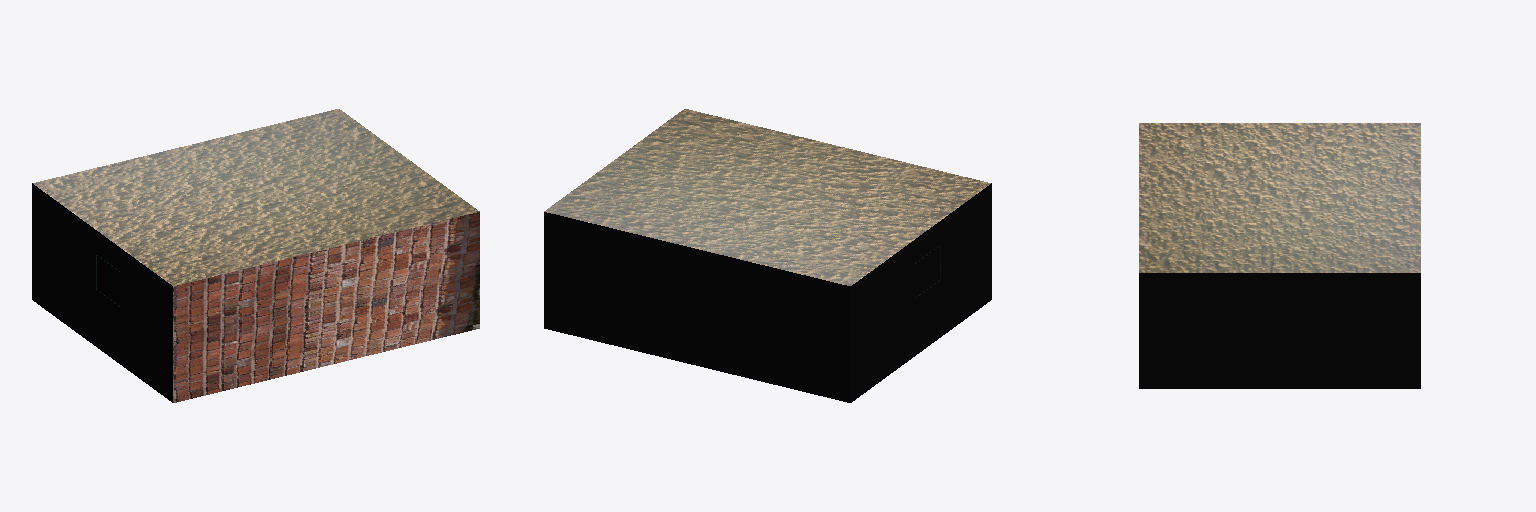
3 renders of one model, left to right at view 1: azimuth 30°, elevation 25°; view 2: azimuth 150°, elevation 25°; view 3: azimuth 270°, elevation 25°, orthographic.
Visible parts, largest first — view 1: Plane.001_Plane.011; view 2: Plane.001_Plane.011; view 3: Plane.001_Plane.011.
Boxes of the visible parts, x1=… form: Plane.001_Plane.011: x1=32, y1=109, x2=479, y2=402; Plane.001_Plane.011: x1=544, y1=109, x2=991, y2=402; Plane.001_Plane.011: x1=1139, y1=123, x2=1420, y2=388.
Bounding box in the file's own units: 153 × 55.61 × 122.
13 materials, 8 textured.